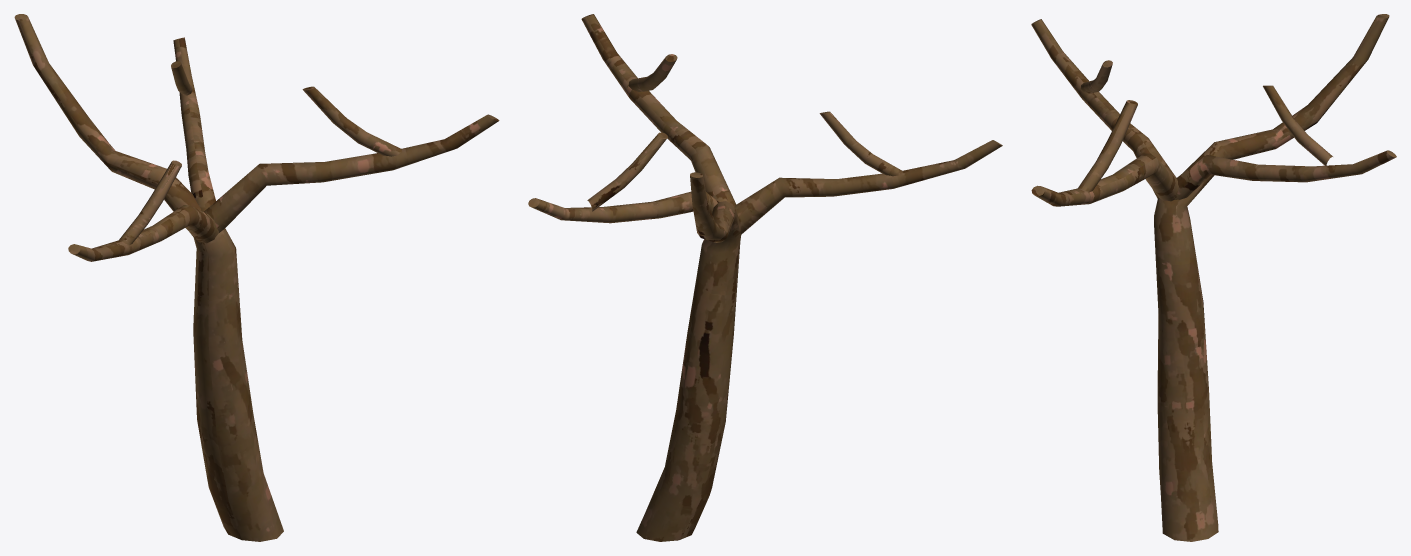
The model's file is quaternius-textured-stylized-trees-dead-tree-2.glb.
3 views of the same model, side by side, from view 1: azimuth 30°, elevation 25°; view 2: azimuth 150°, elevation 25°; view 3: azimuth 270°, elevation 25° (orthographic). The views are drawn at different scales.
Visible parts, largest first — view 1: DeadTree_2; view 2: DeadTree_2; view 3: DeadTree_2.
Part boxes in pixels (<box>): DeadTree_2: <box>14,14,499,541</box>; DeadTree_2: <box>528,14,1002,541</box>; DeadTree_2: <box>1031,14,1396,541</box>.
Bounding box in the file's own units: 4.6 × 4.83 × 3.54.
Materials: 1 (1 with a texture image).
